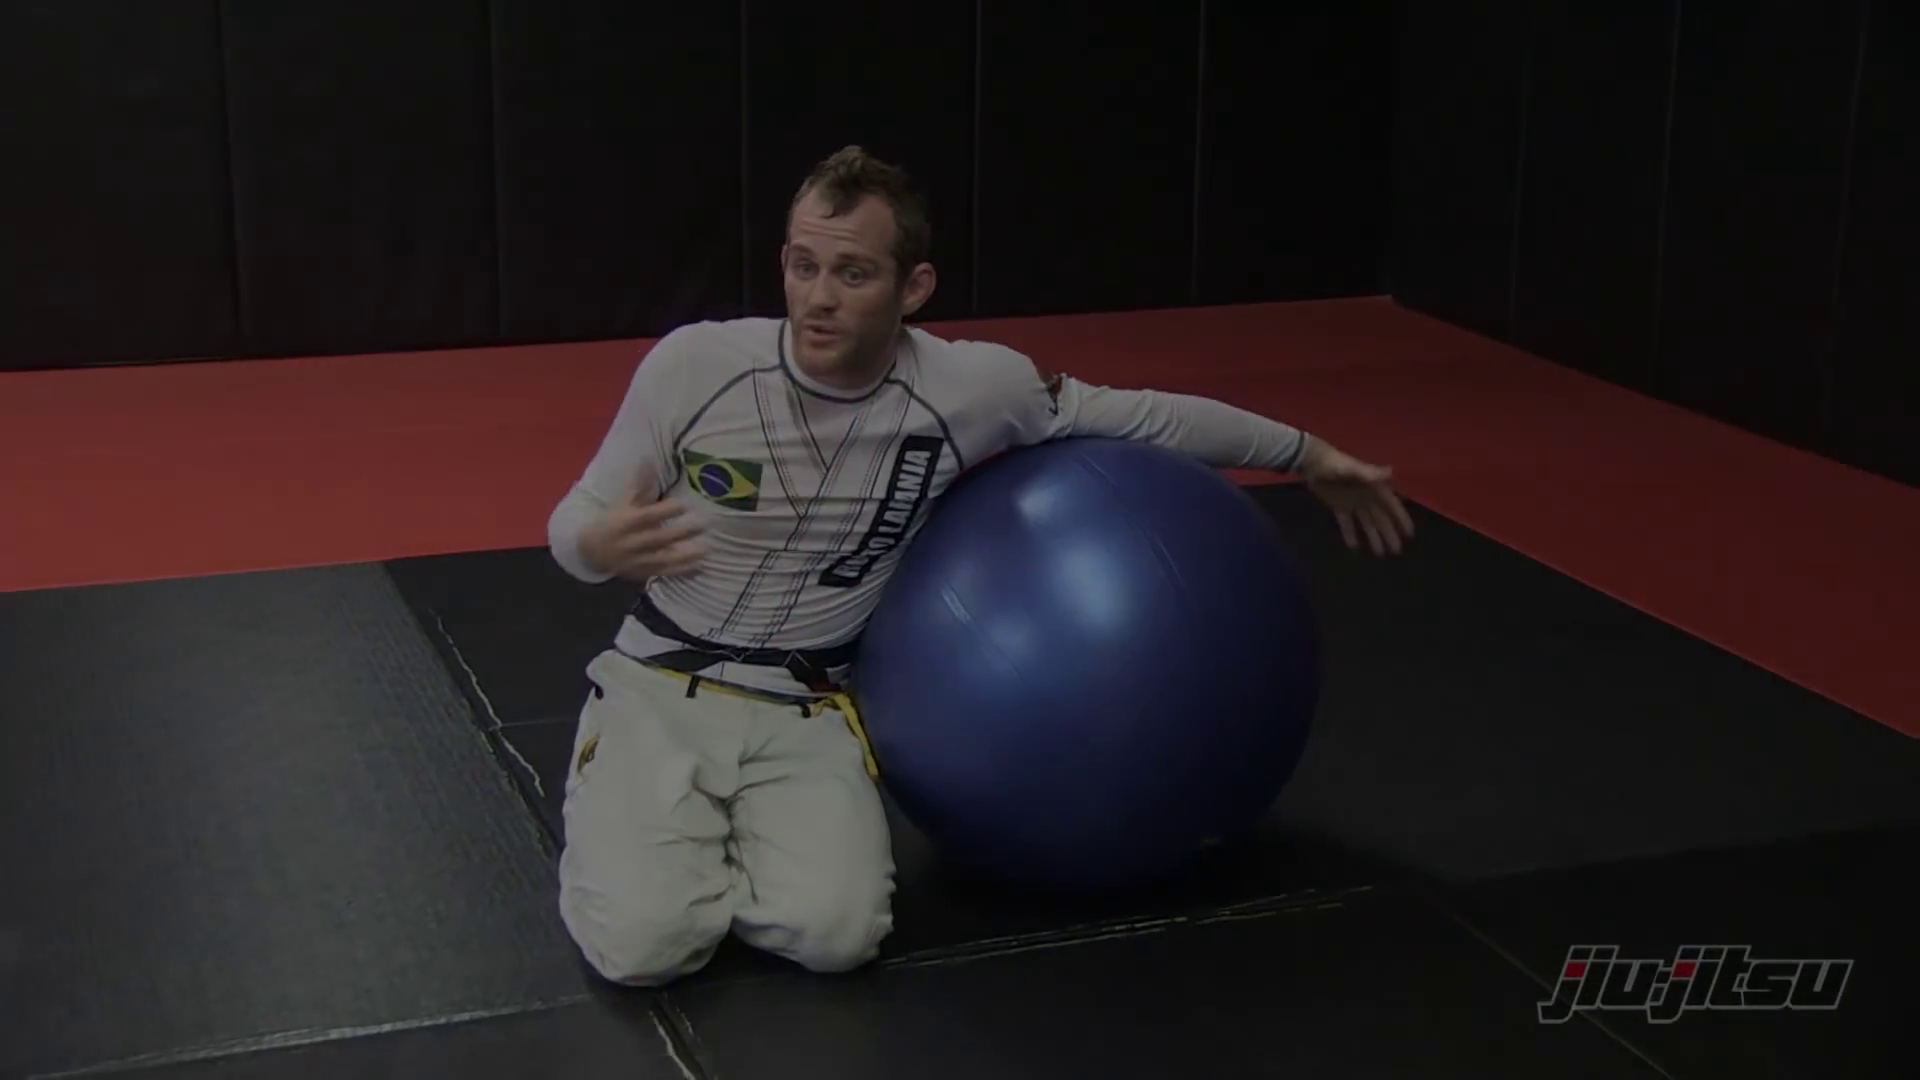yogaball: (829, 425, 1338, 903)
